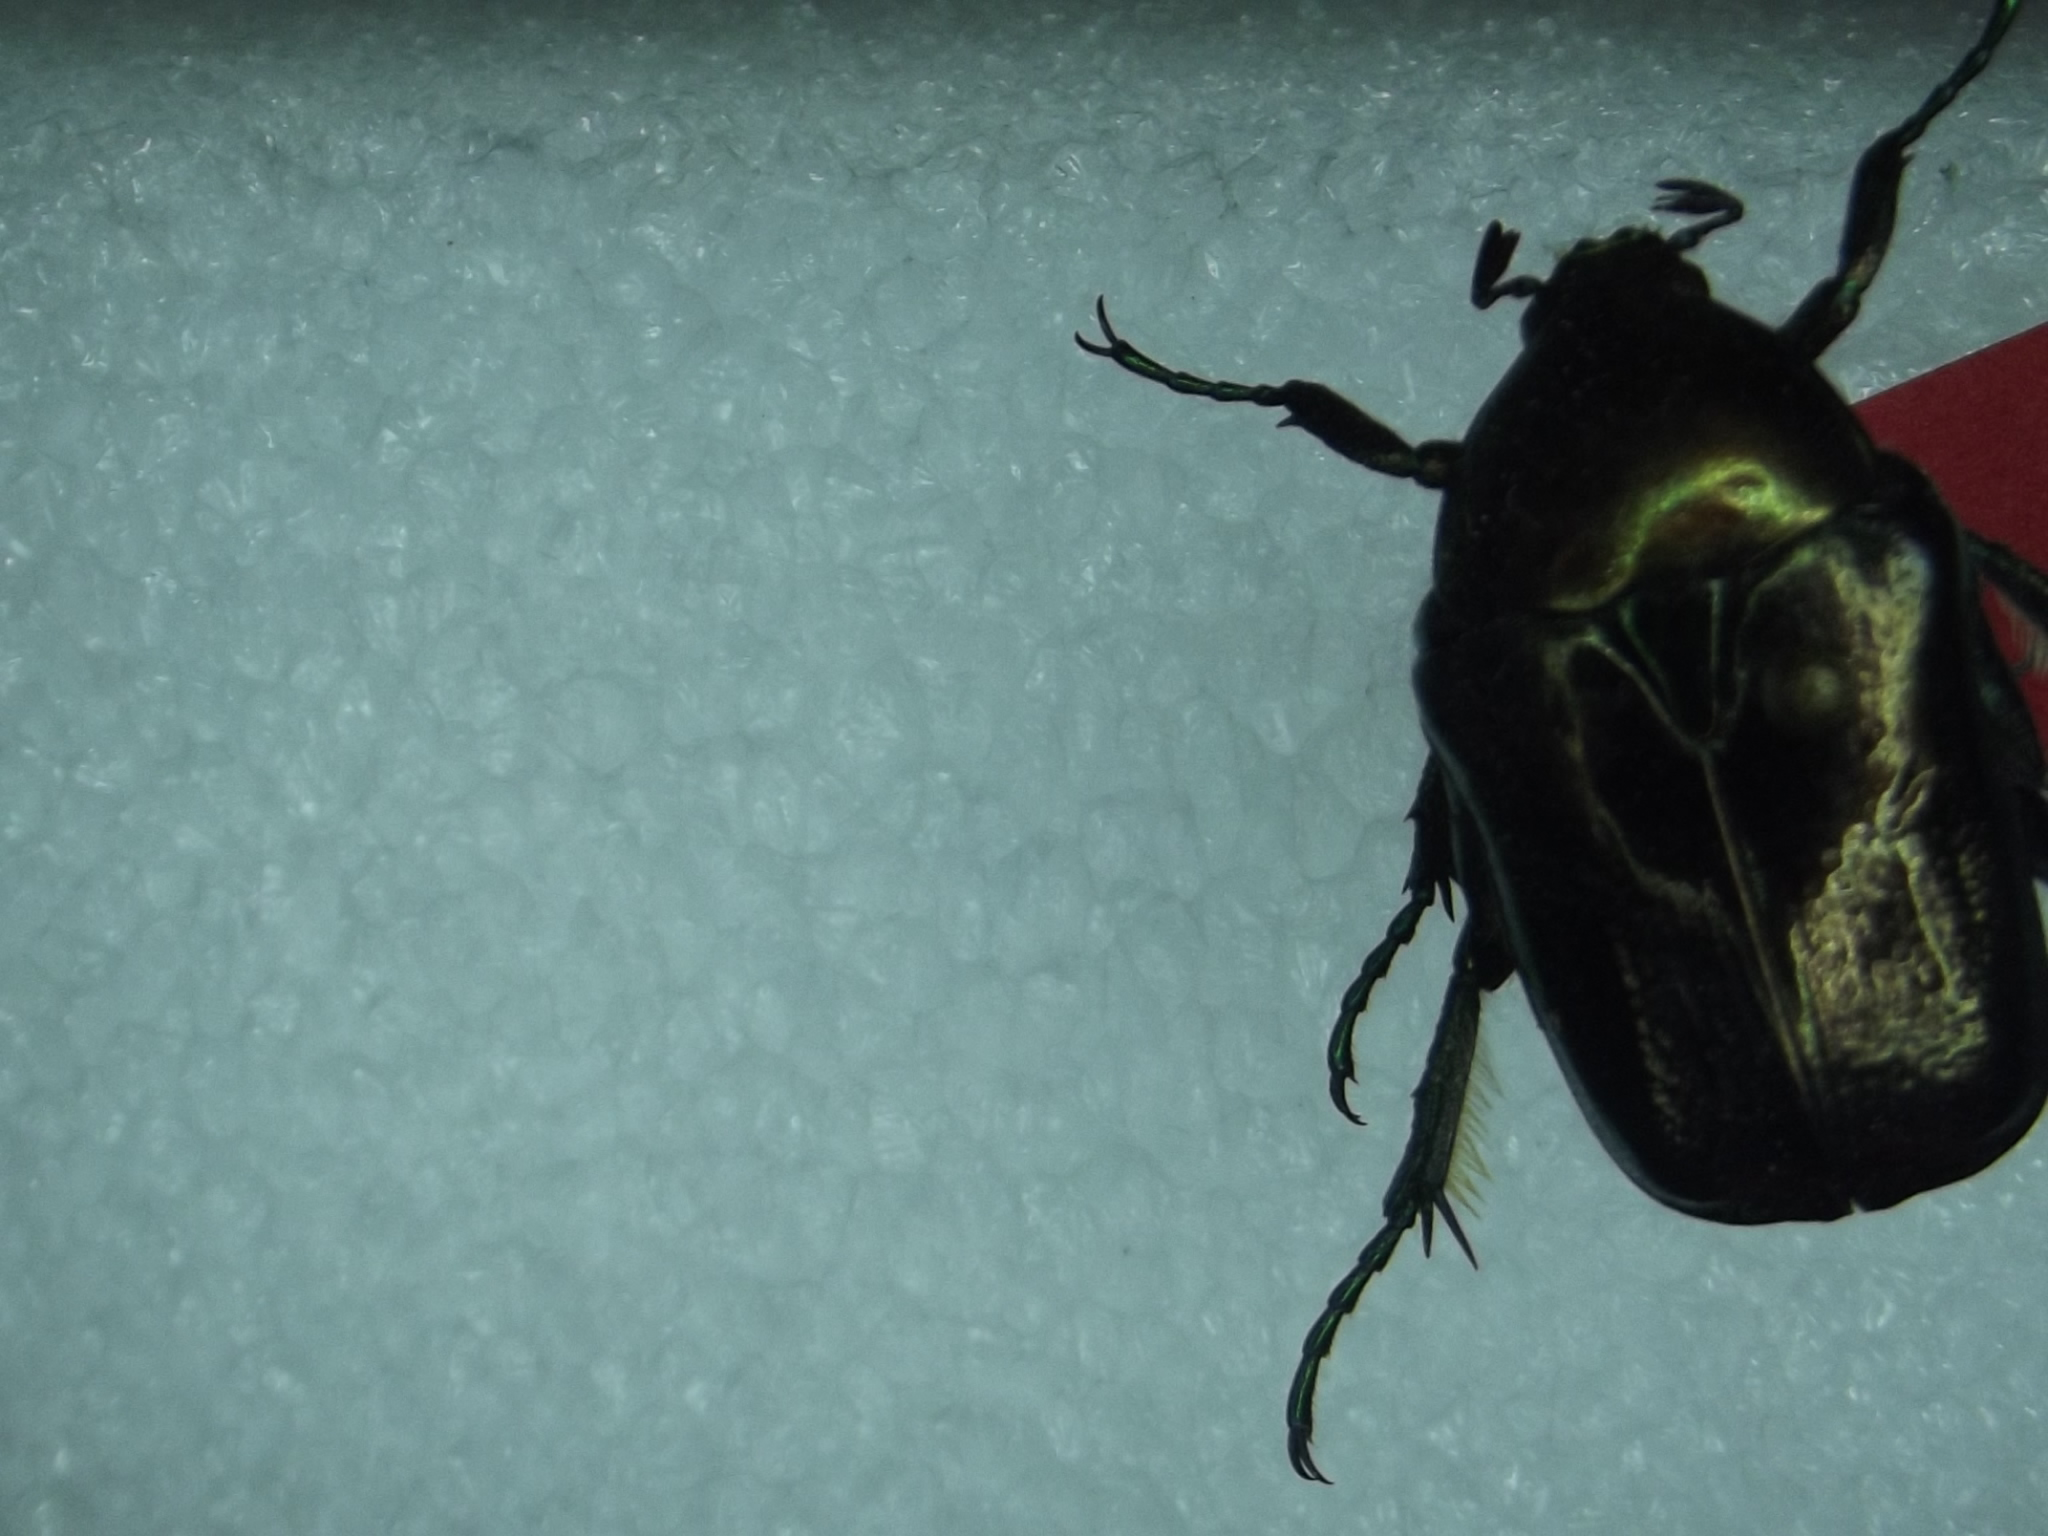Protaetia_besucheti: (1068, 19, 2048, 1505)
